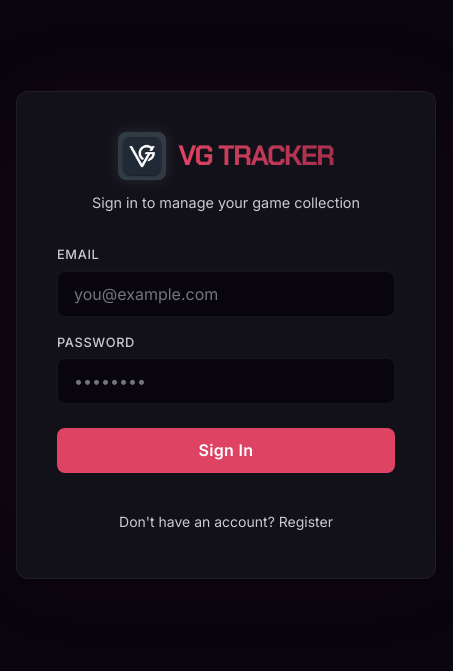
Test case: LoginPage › displays error message on failed registration
// Toggle to register mode
Click the button "Don't have an account? Register" at x=226, y=522, box x1=111 y1=505 x2=341 y2=538
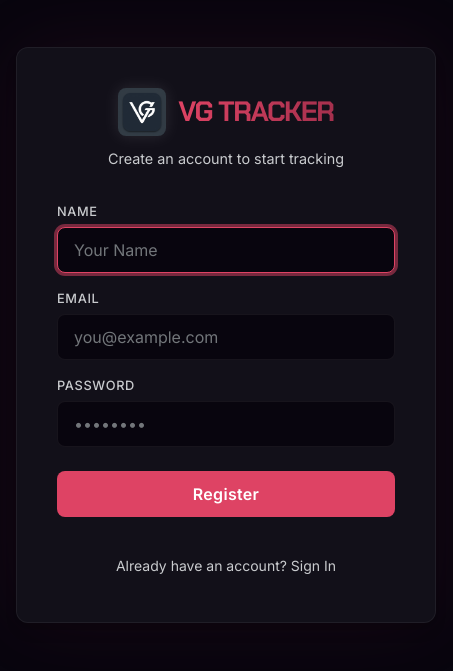
// Fill form
Type "Test User" into the field labelled "Name" at x=226, y=250, box x1=57 y1=227 x2=395 y2=273
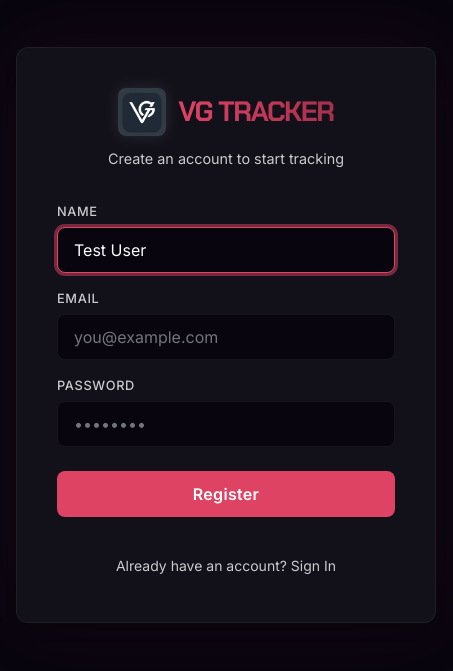
Type "existing@example.com" into the field labelled "Email" at x=226, y=337, box x1=57 y1=314 x2=395 y2=360
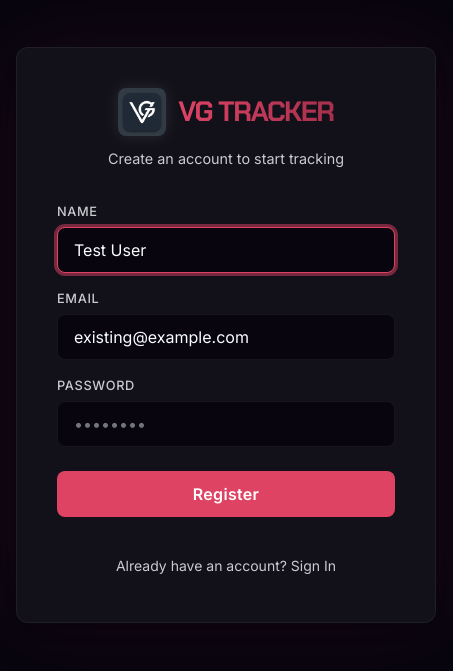
Type "password123" into the password field labelled "Password" at x=226, y=424, box x1=57 y1=401 x2=395 y2=447
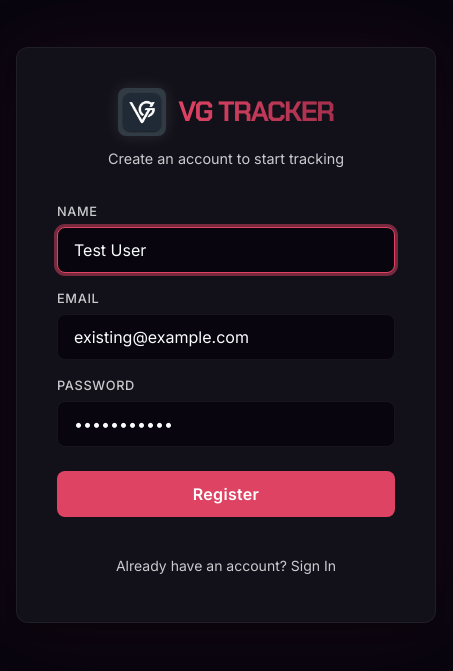
Click the button "Register" at x=226, y=494, box x1=57 y1=471 x2=395 y2=517
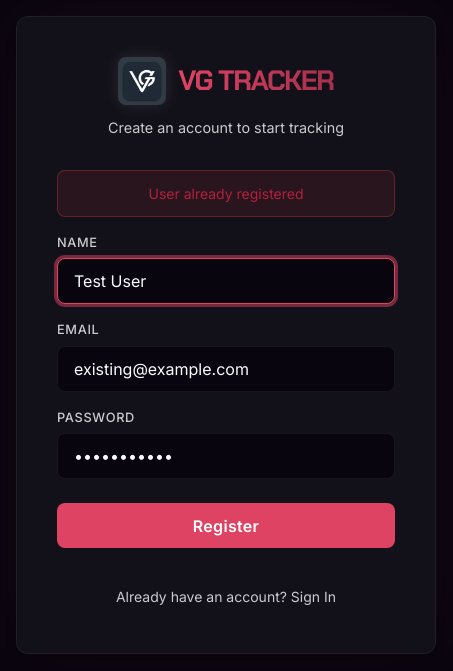
expect the text "User already registered" is shown: met, box x1=57 y1=170 x2=395 y2=217
